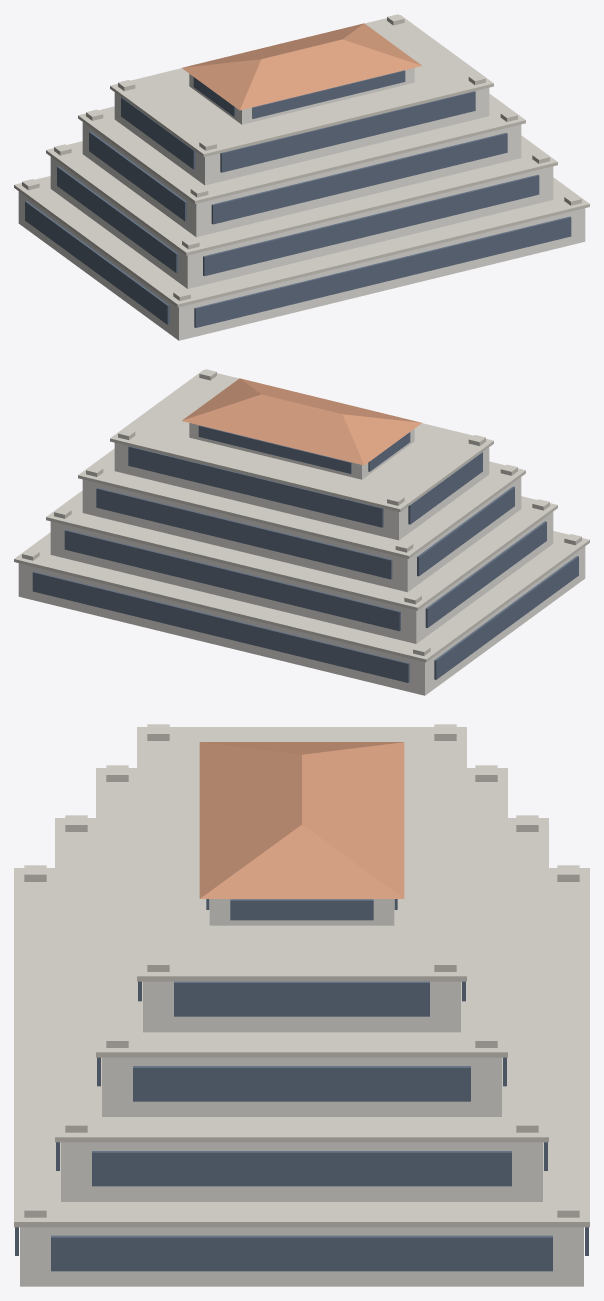
Rendered from fairmont_hairpin_hotel.glb.
3 views of the same model, one above another, from view 1: azimuth 30°, elevation 25°; view 2: azimuth 150°, elevation 25°; view 3: azimuth 270°, elevation 25° (orthographic). The views are drawn at different scales.
Visible parts, largest first — view 1: fairmont_hairpin_hotel; view 2: fairmont_hairpin_hotel; view 3: fairmont_hairpin_hotel.
Part boxes in pixels (x1=…): fairmont_hairpin_hotel: x1=14, y1=14, x2=589, y2=340; fairmont_hairpin_hotel: x1=14, y1=369, x2=589, y2=695; fairmont_hairpin_hotel: x1=14, y1=724, x2=589, y2=1286.
Size of the model in its own units: 80 by 34 by 55.
